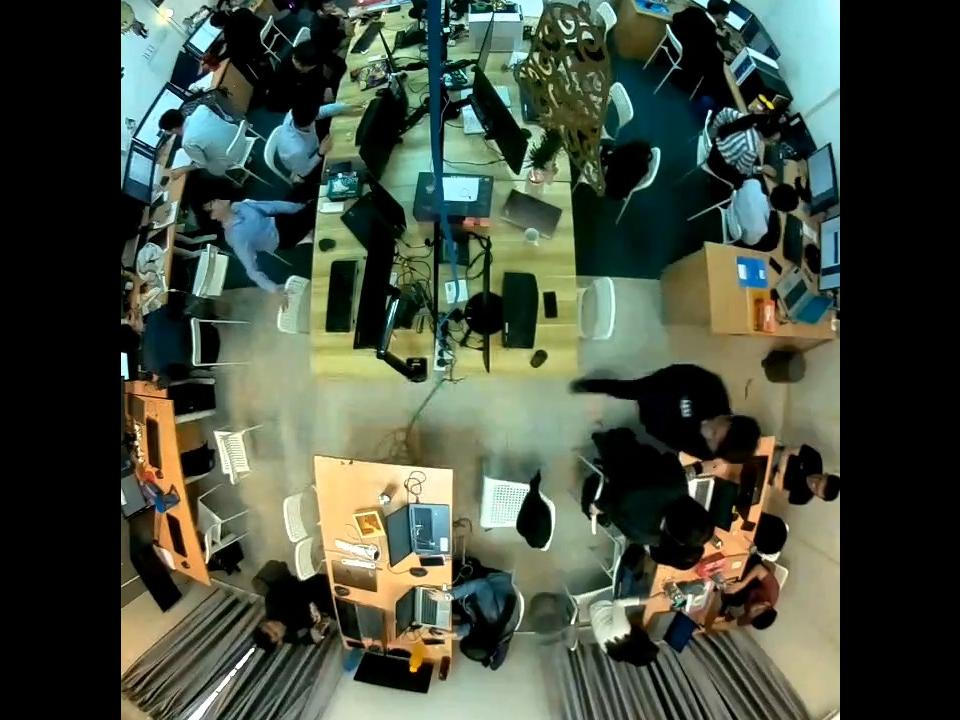name-tag: (674, 395, 696, 420)
